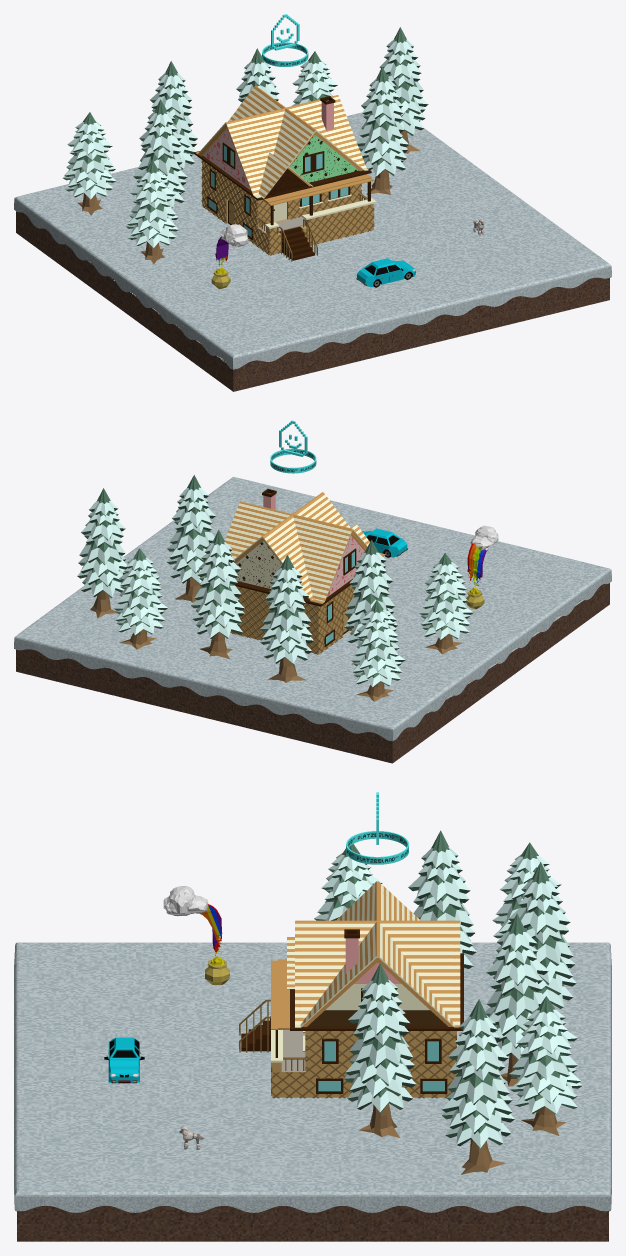
The picture shows the model from 3 angles, top to bottom: view 1: azimuth 30°, elevation 25°; view 2: azimuth 150°, elevation 25°; view 3: azimuth 270°, elevation 25°; orthographic projection. The views are drawn at different scales.
Parts seen in each view (by area): view 1: Cube.003, Cube.1102, VEHICLES_CAR, OBJRANDOM_RAINBOW, TYPE_PREMIUM; view 2: Cube.003, Cube.1102, OBJRANDOM_RAINBOW, TYPE_PREMIUM, VEHICLES_CAR; view 3: Cube.003, Cube.1102, OBJRANDOM_RAINBOW, VEHICLES_CAR, TYPE_PREMIUM.
Part boxes in pixels (x1,y1,x2,y2): Cube.003: (14,27,611,391); Cube.1102: (194,85,376,261); VEHICLES_CAR: (356,258,415,287); OBJRANDOM_RAINBOW: (211,224,248,288); TYPE_PREMIUM: (262,14,308,66); Cube.003: (14,475,611,763); Cube.1102: (225,489,388,654); OBJRANDOM_RAINBOW: (466,525,498,609); TYPE_PREMIUM: (270,420,316,473); VEHICLES_CAR: (362,528,407,557); Cube.003: (14,830,611,1241); Cube.1102: (239,881,463,1098); OBJRANDOM_RAINBOW: (163,886,229,984); VEHICLES_CAR: (104,1037,144,1083); TYPE_PREMIUM: (346,792,408,864).
Bounding box in the file's own units: 4040 × 2568 × 4040.
Materials: 36 (5 with a texture image).
